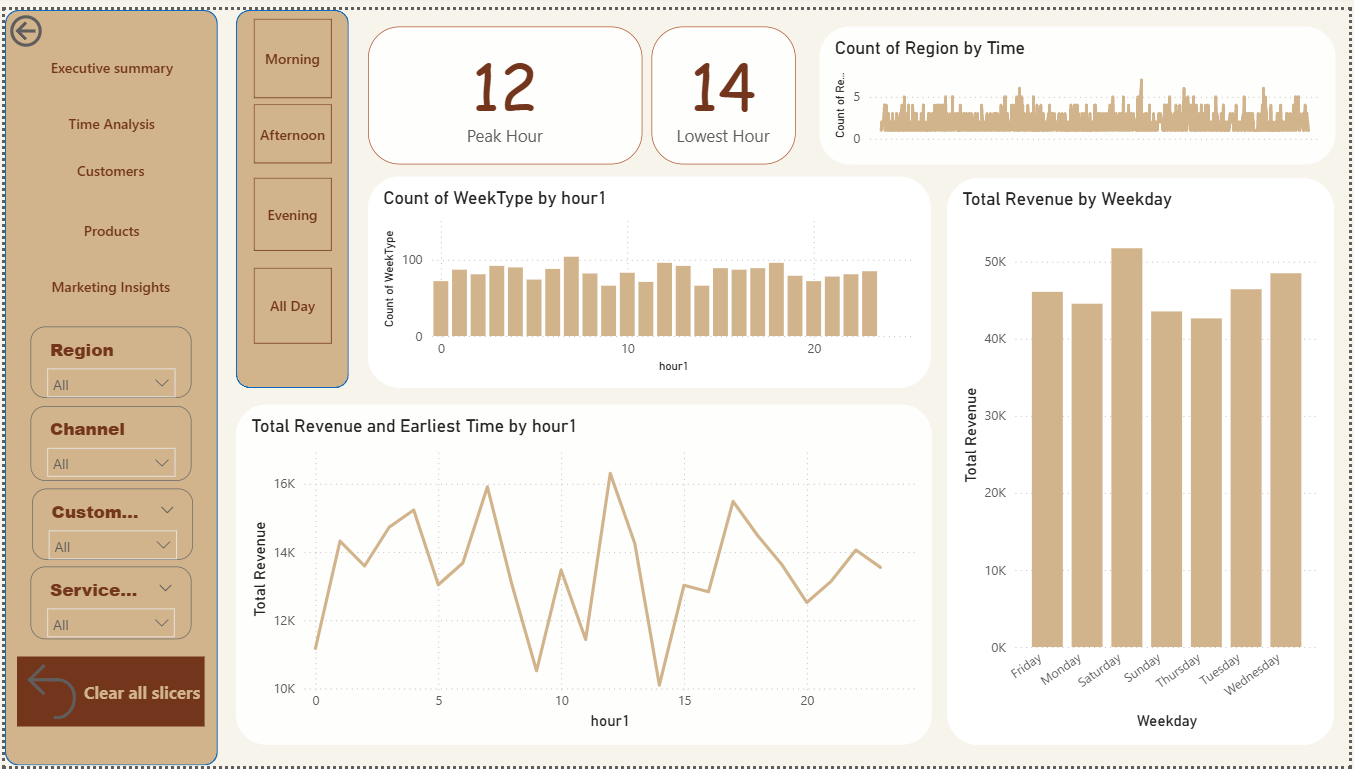

The dashboard page shown, as its layout file describes it:
{"tool":"powerbi","page":{"name":"Page 3","canvas":[1280,720],"ordinal":2},"visuals":[{"type":"shape","box":[220,0,107.5,360],"z":0},{"type":"shape","box":[0,0,202.6,719.6],"z":1000},{"type":"actionButton","box":[237,8,74,75],"z":2000},{"type":"actionButton","box":[237,160,74,69],"z":3000},{"type":"actionButton","box":[237,90,74,56],"z":4000},{"type":"actionButton","box":[237,246,74,72],"z":5000},{"type":"group","id":"g1","title":"Group 2","box":[24,301,154,298],"z":6000},{"type":"actionButton","box":[11.7,615,178.3,66.7],"z":7000},{"type":"group","id":"g2","title":"Group 3","box":[18,25,166,257],"z":8000},{"type":"slicer","fields":{"Values":["Sheet1.Region"]},"box":[24,301,153.3,67.8],"z":9000,"group":"g1"},{"type":"lineChart","fields":{"Y":["Sheet1.Total Revenue"],"Category":["Sheet1.hour1"]},"box":[220,376.2,662.5,323.8],"z":9000},{"type":"actionButton","box":[0,0,100,40],"z":10000},{"type":"slicer","fields":{"Values":["Sheet1.Channel"]},"box":[24,376.6,153.3,71.1],"z":10000,"group":"g1"},{"type":"columnChart","fields":{"Category":["Sheet1.Weekday"],"Y":["Sheet1.Total Revenue"]},"box":[897.5,160,368.8,540],"z":11000},{"type":"slicer","fields":{"Values":["Sheet1.Customer_Type"]},"box":[25.1,455.4,153.3,67.8],"z":11000,"group":"g1"},{"type":"lineChart","fields":{"Y":["CountNonNull(Sheet1.Region)"],"Category":["Sheet1.Time"]},"box":[775,15,491.2,131.2],"z":12000},{"type":"slicer","fields":{"Values":["Sheet1.Service_Category"]},"box":[24,530,153,69],"z":12000,"group":"g1"},{"type":"card","fields":{"Values":["Sheet1.Peak Hour"]},"box":[346.2,15,261.2,131.2],"z":13000},{"type":"card","fields":{"Values":["Sheet1.Lowest Hour"]},"box":[615,15,137,131],"z":14000},{"type":"actionButton","box":[19.2,25,164.4,57.8],"z":14000,"group":"g2"},{"type":"actionButton","box":[28.1,82.8,146.7,50],"z":15000,"group":"g2"},{"type":"lineStackedColumnComboChart","fields":{"Category":["Sheet1.hour1"],"Y":["CountNonNull(Sheet1.WeekType)"]},"box":[346.2,158.8,536.2,201.2],"z":15000},{"type":"actionButton","box":[37,132.8,127.8,40],"z":16000,"group":"g2"},{"type":"actionButton","box":[28.1,189.4,146.7,40],"z":17000,"group":"g2"},{"type":"actionButton","box":[18,242.4,165,40],"z":18000,"group":"g2"}]}

Visuals, with their boxes in screenshot pixels (x1, y1, x2, y2), scaled from the page's 1280x720 canvas onto the 1354x769 screenshot:
shape: rect(233, 0, 346, 384)
shape: rect(0, 0, 214, 768)
actionButton: rect(251, 9, 329, 89)
actionButton: rect(251, 171, 329, 245)
actionButton: rect(251, 96, 329, 156)
actionButton: rect(251, 263, 329, 340)
"Group 2" group: rect(25, 321, 188, 640)
actionButton: rect(12, 657, 201, 728)
"Group 3" group: rect(19, 27, 195, 301)
slicer - Sheet1.Region: rect(25, 321, 188, 394)
lineChart - Sheet1.Total Revenue x Sheet1.hour1: rect(233, 402, 934, 748)
actionButton: rect(0, 0, 106, 43)
slicer - Sheet1.Channel: rect(25, 402, 188, 478)
columnChart - Sheet1.Weekday x Sheet1.Total Revenue: rect(949, 171, 1340, 748)
slicer - Sheet1.Customer_Type: rect(27, 486, 189, 559)
lineChart - CountNonNull(Sheet1.Region) x Sheet1.Time: rect(820, 16, 1339, 156)
slicer - Sheet1.Service_Category: rect(25, 566, 187, 640)
card - Sheet1.Peak Hour: rect(366, 16, 643, 156)
card - Sheet1.Lowest Hour: rect(651, 16, 795, 156)
actionButton: rect(20, 27, 194, 88)
actionButton: rect(30, 88, 185, 142)
lineStackedColumnComboChart - Sheet1.hour1 x CountNonNull(Sheet1.WeekType): rect(366, 170, 933, 384)
actionButton: rect(39, 142, 174, 185)
actionButton: rect(30, 202, 185, 245)
actionButton: rect(19, 259, 194, 302)
